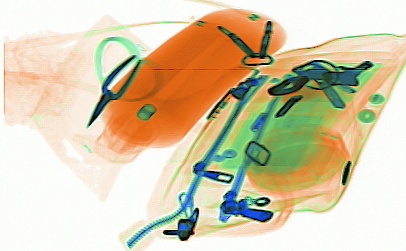scissors: (84, 32, 165, 130)
